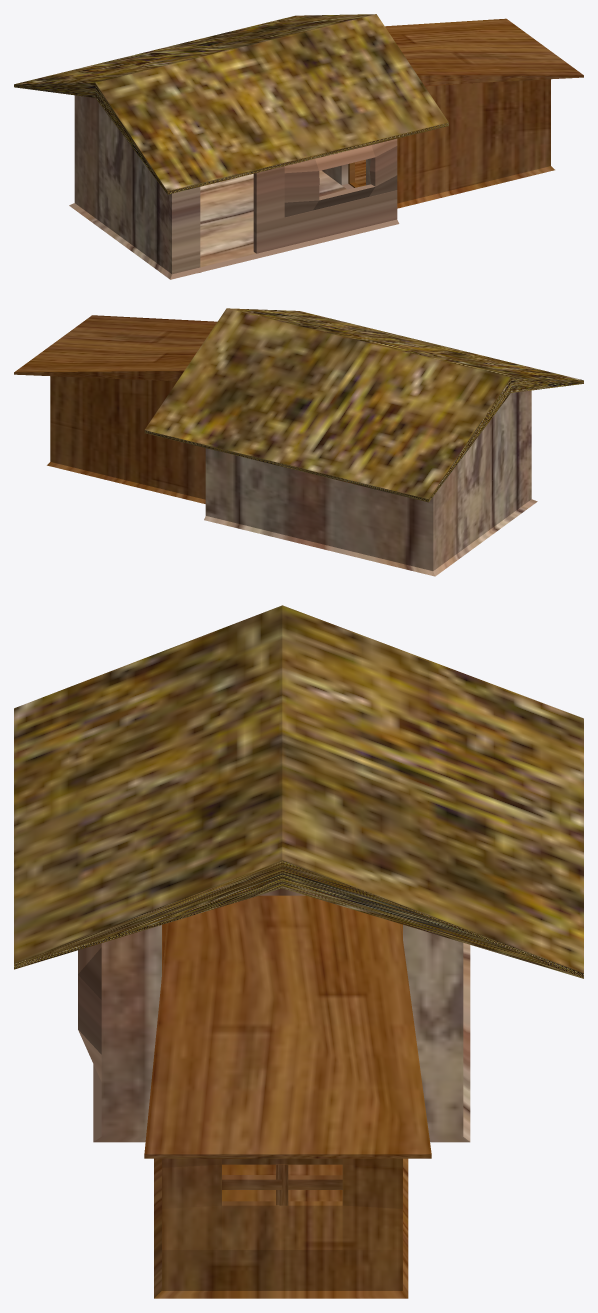
The model's file is HouseHM001.fbx.
The picture shows the model from 3 angles, top to bottom: view 1: azimuth 30°, elevation 25°; view 2: azimuth 150°, elevation 25°; view 3: azimuth 270°, elevation 25°; orthographic projection. The views are drawn at different scales.
Parts seen in each view (by area): view 1: Ceiling, HouseHM001A, HouseHM001B; view 2: Ceiling, HouseHM001A, HouseHM001B; view 3: Ceiling, HouseHM001B, HouseHM001A.
Part boxes in pixels (x1=…): Ceiling: x1=14, y1=14, x2=448, y2=194; HouseHM001A: x1=69, y1=95, x2=399, y2=279; HouseHM001B: x1=348, y1=18, x2=583, y2=208; Ceiling: x1=144, y1=308, x2=583, y2=502; HouseHM001A: x1=204, y1=390, x2=537, y2=576; HouseHM001B: x1=14, y1=315, x2=217, y2=503; Ceiling: x1=14, y1=605, x2=583, y2=978; HouseHM001B: x1=144, y1=895, x2=431, y2=1298; HouseHM001A: x1=78, y1=888, x2=470, y2=1142.
Size of the model in its own units: 1605 by 571 by 945.
